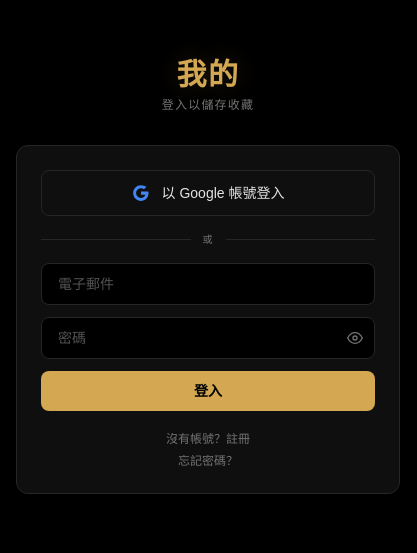
Test: register mode › shows 註冊 button after switching mode
What coordinates should you click on to do the following:
click the button "沒有帳號？註冊"
I would click on:
 (208, 438)
Its box is [166,430,250,446].
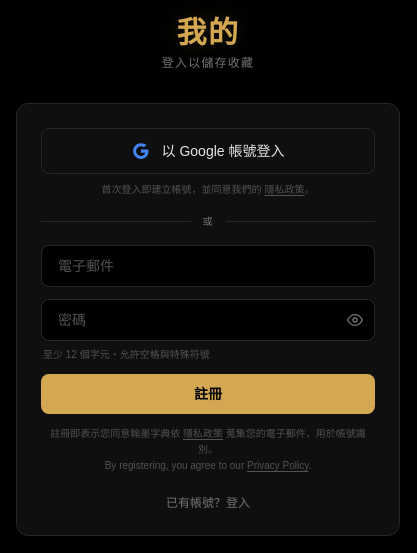
Expected: the button "註冊" is shown, [41,374,375,414]
